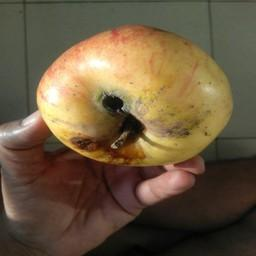Bad_apple: (33, 23, 232, 165)
